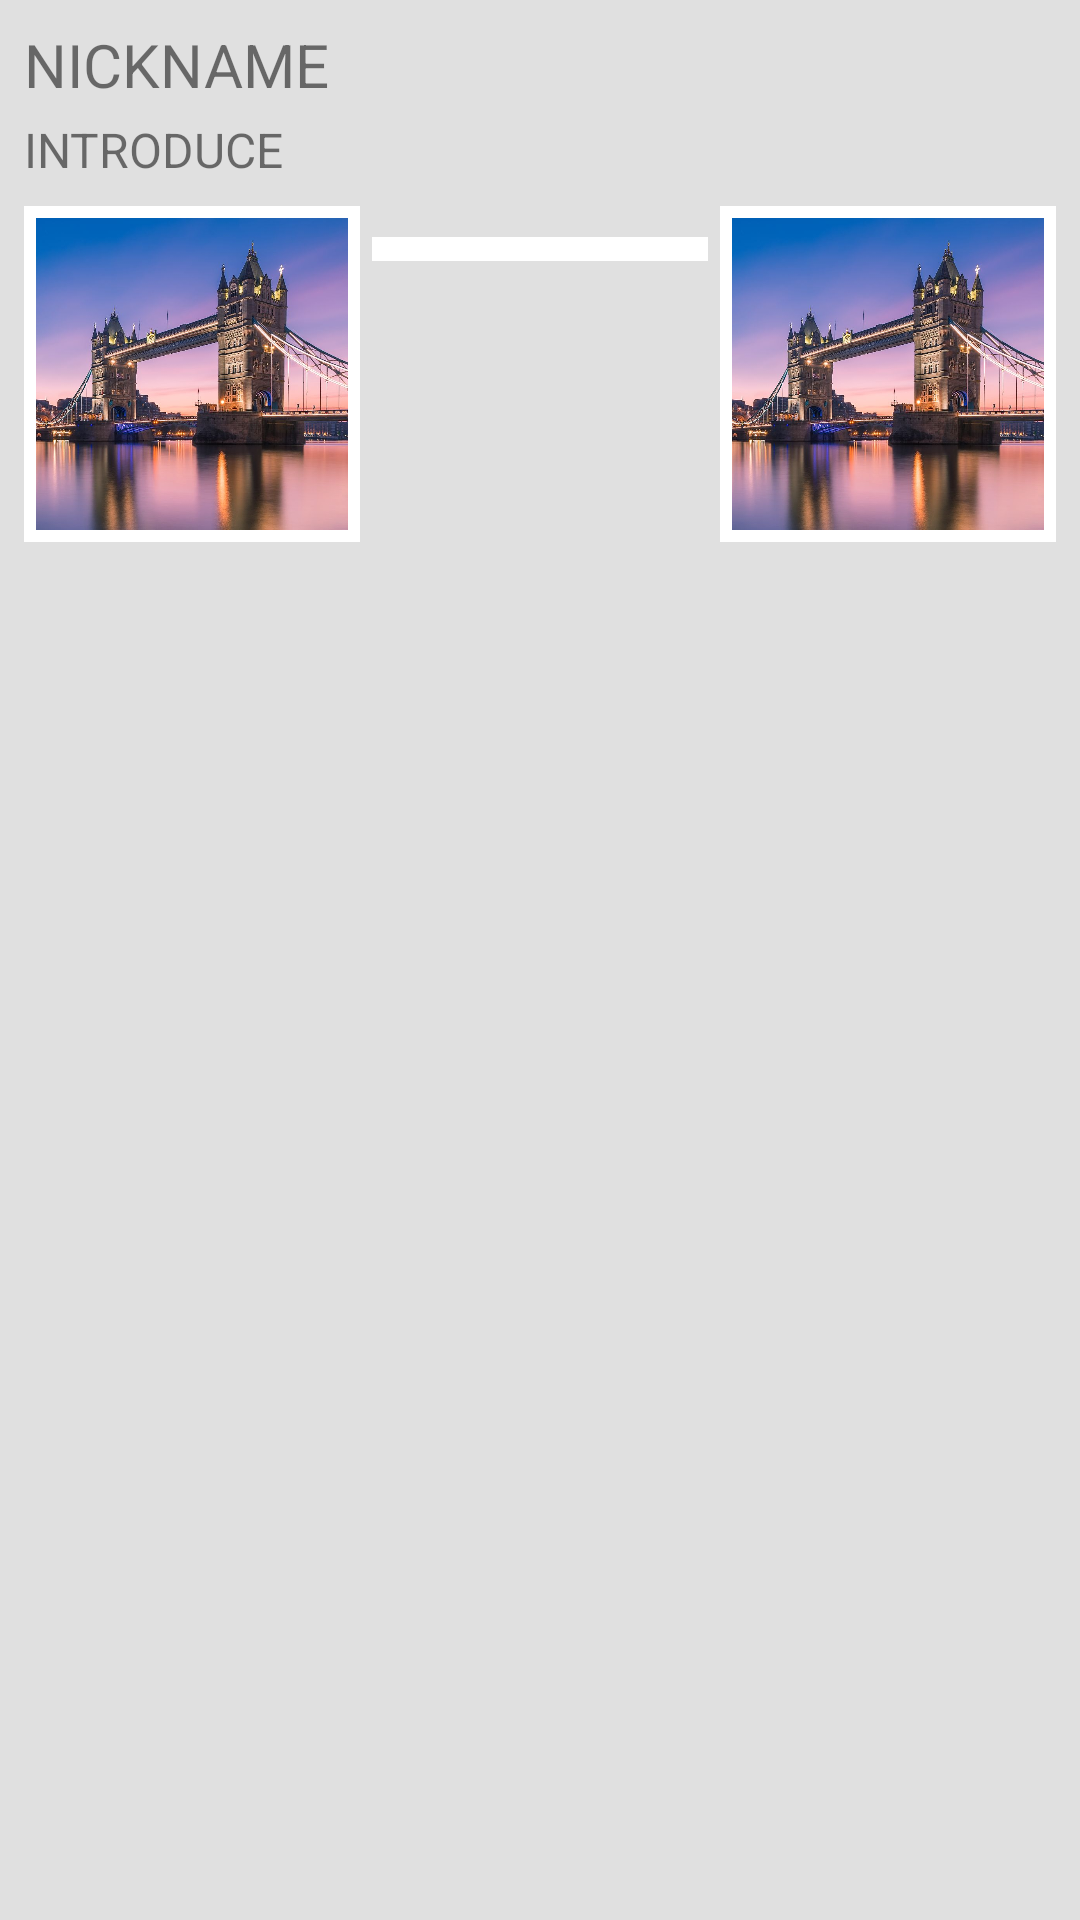

Screen size 1080w x 1920h. Icon name, then its center in pixels as (x=x, y=y):
london: (x=192, y=374), (x=888, y=374)
